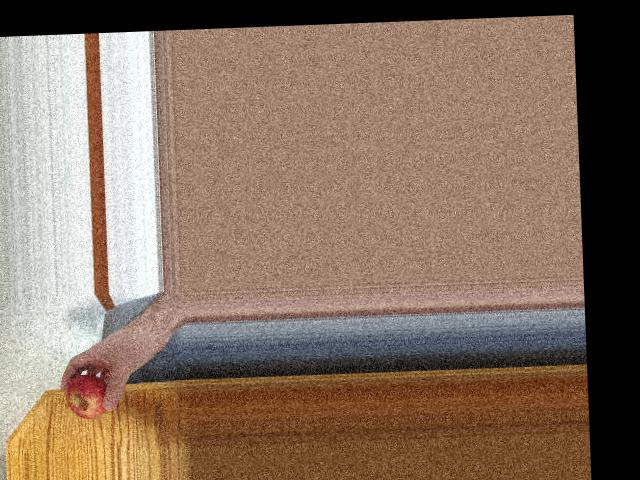apple: (64, 371, 115, 419)
